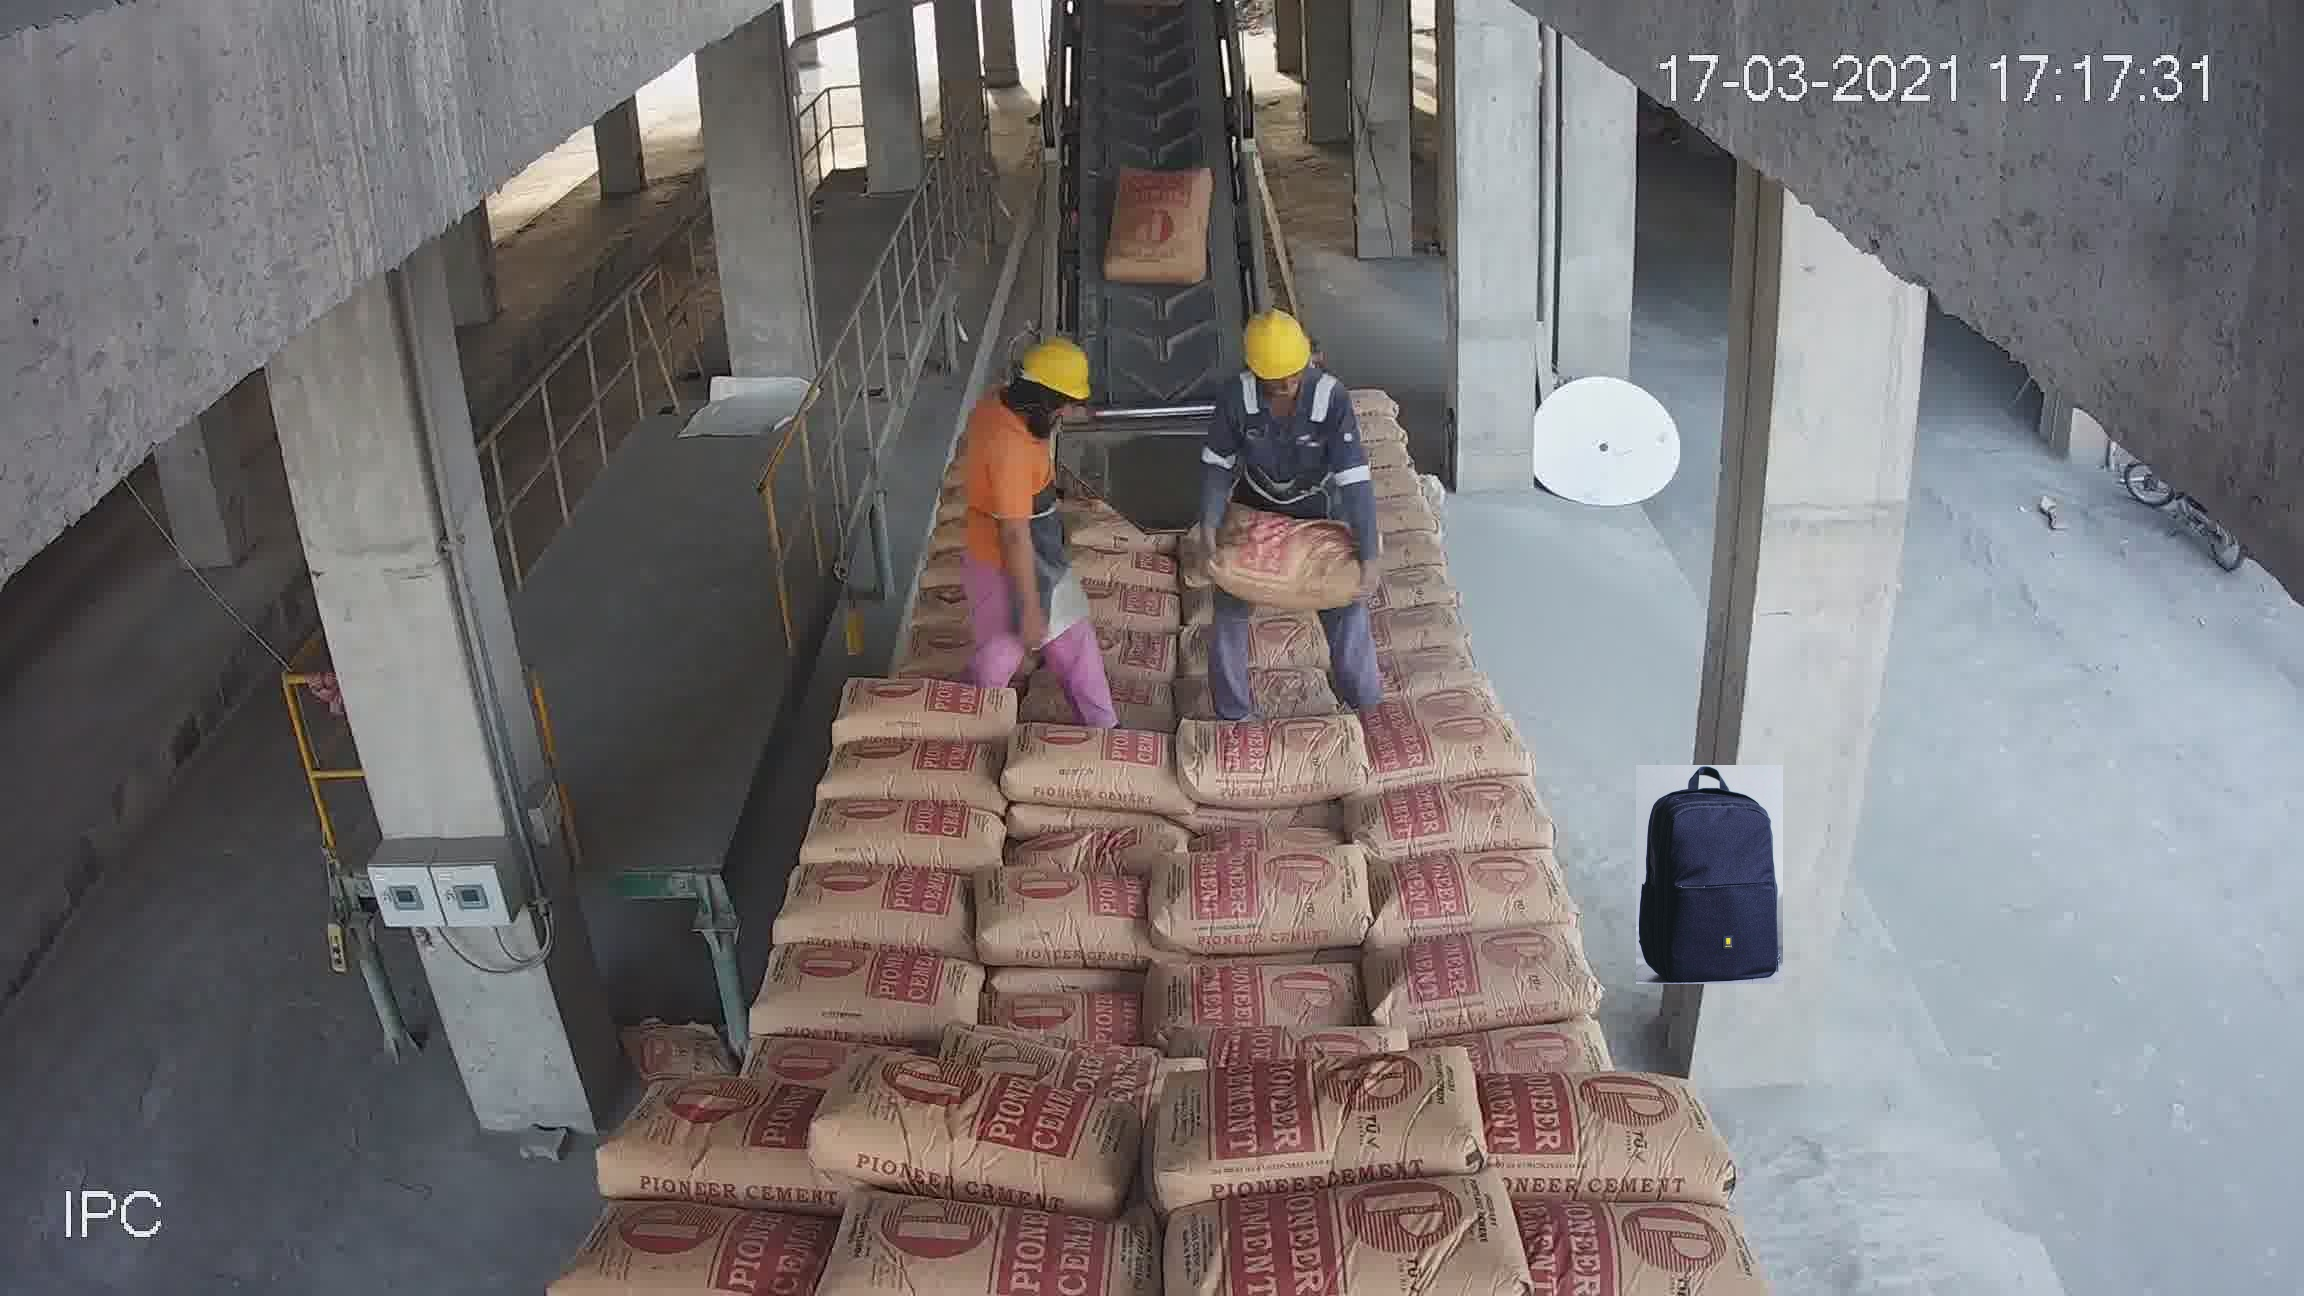bag: (1100, 172, 1214, 290)
bag_h: (796, 1059, 1135, 1209), (1190, 1051, 1518, 1204), (1174, 1173, 1514, 1294), (1472, 1054, 1719, 1214), (812, 1192, 1146, 1296), (1367, 916, 1605, 1035), (744, 934, 994, 1044), (567, 1196, 836, 1296), (604, 1084, 812, 1209), (1518, 1195, 1764, 1296), (1367, 847, 1578, 949), (976, 858, 1150, 981), (1163, 850, 1374, 945), (766, 866, 983, 957), (1177, 717, 1372, 817), (1152, 959, 1364, 1044), (1345, 688, 1521, 791), (1343, 775, 1541, 862), (1003, 725, 1180, 817), (1204, 510, 1366, 609), (801, 802, 1002, 877), (820, 733, 1010, 805), (1407, 1021, 1612, 1086), (1011, 668, 1192, 737), (839, 671, 1022, 737), (1003, 986, 1157, 1059), (1366, 642, 1495, 707), (1082, 570, 1199, 638), (1084, 620, 1207, 680), (1081, 544, 1190, 593), (1364, 565, 1451, 616), (1364, 604, 1461, 649)
